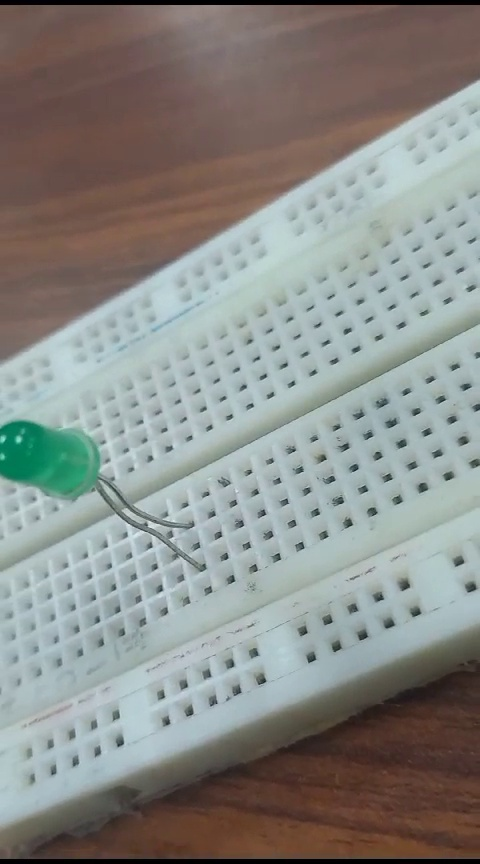LED: (8, 413, 199, 572)
